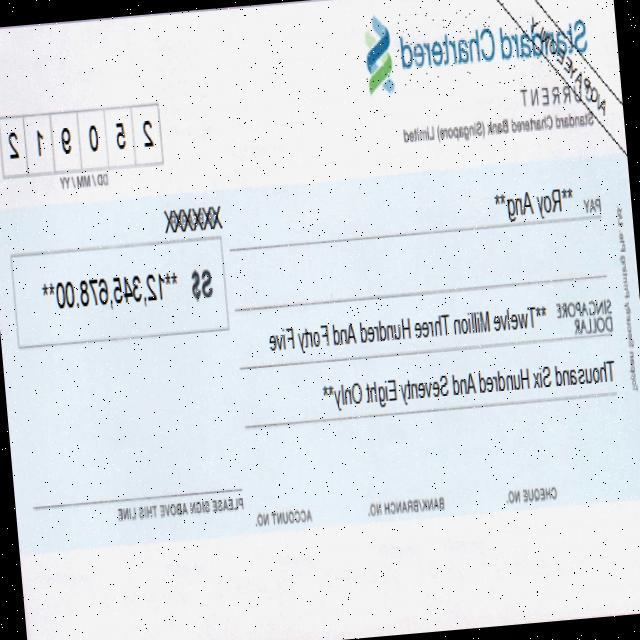Standard Chartered: (360, 0, 589, 95)
